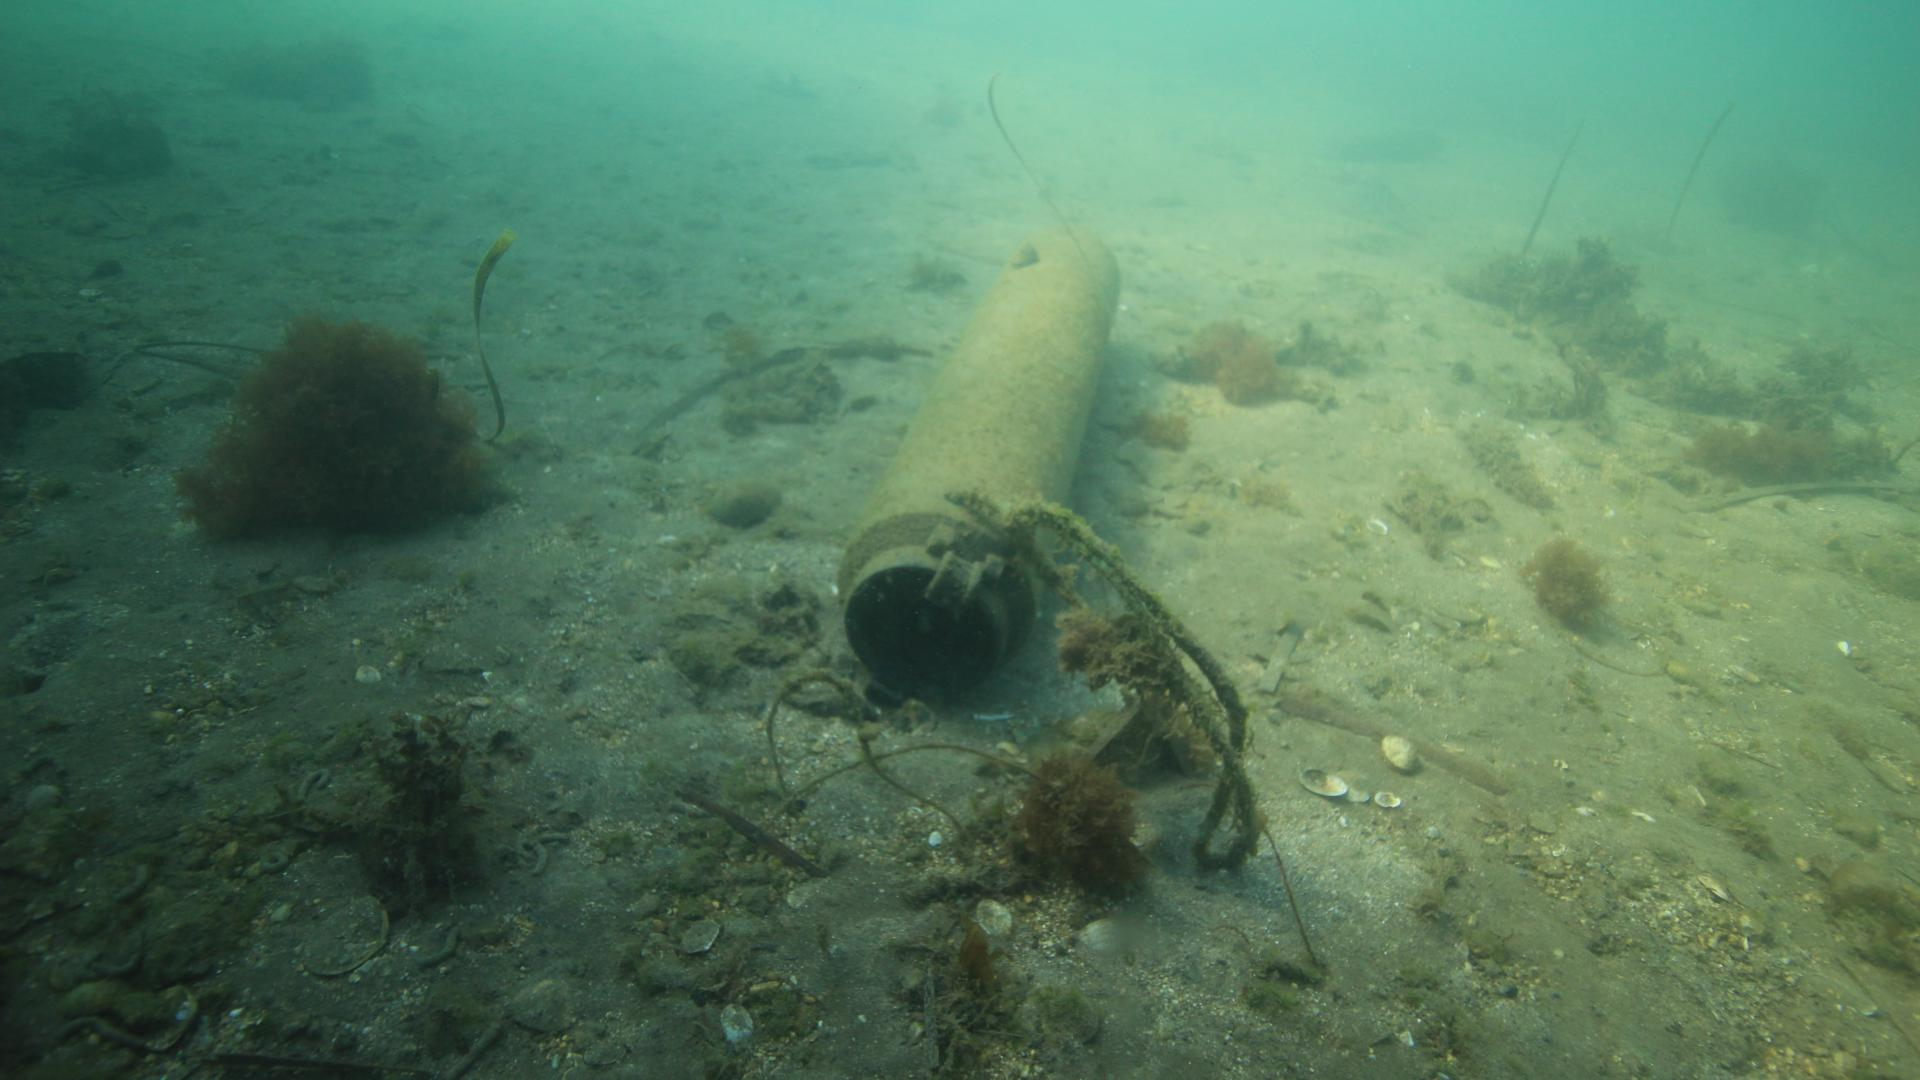bundle of ropes: (939, 483, 1267, 873)
eel fish trap: (839, 218, 1120, 704)
